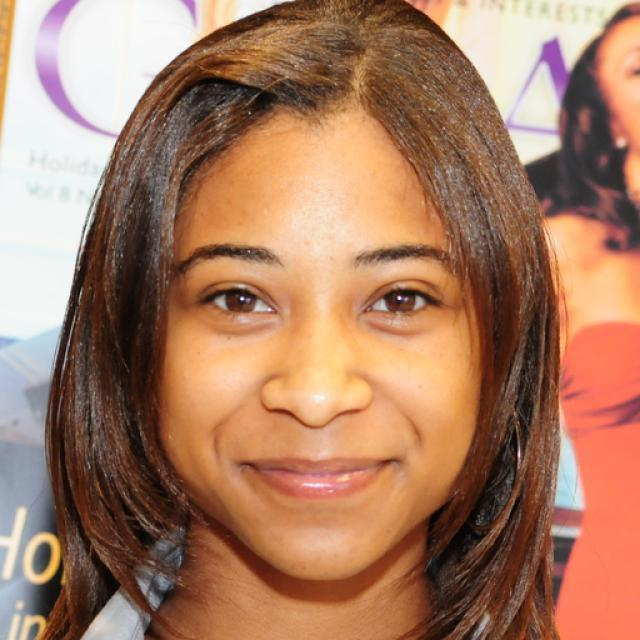content: (157, 100, 482, 582)
